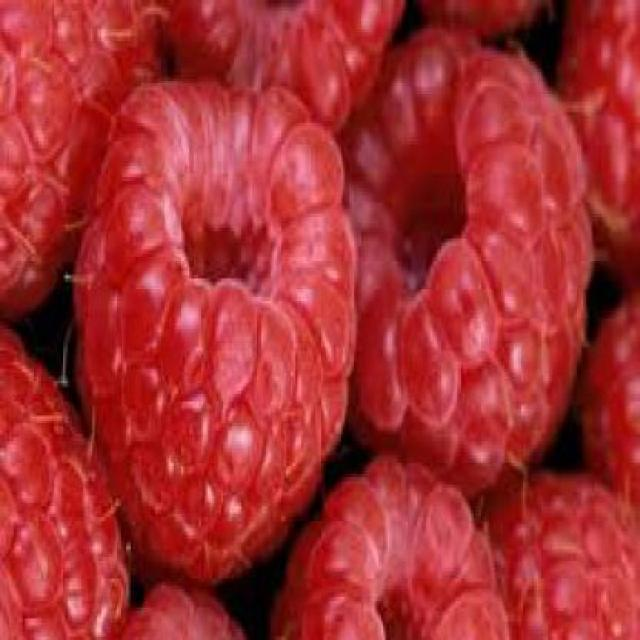BIODEGRADABLE: (75, 79, 352, 590), (340, 29, 577, 478), (0, 0, 171, 345), (264, 452, 516, 636), (0, 322, 131, 636), (141, 0, 406, 112), (487, 445, 638, 637), (558, 0, 638, 286), (579, 282, 638, 496), (119, 572, 258, 636), (412, 0, 558, 37)
